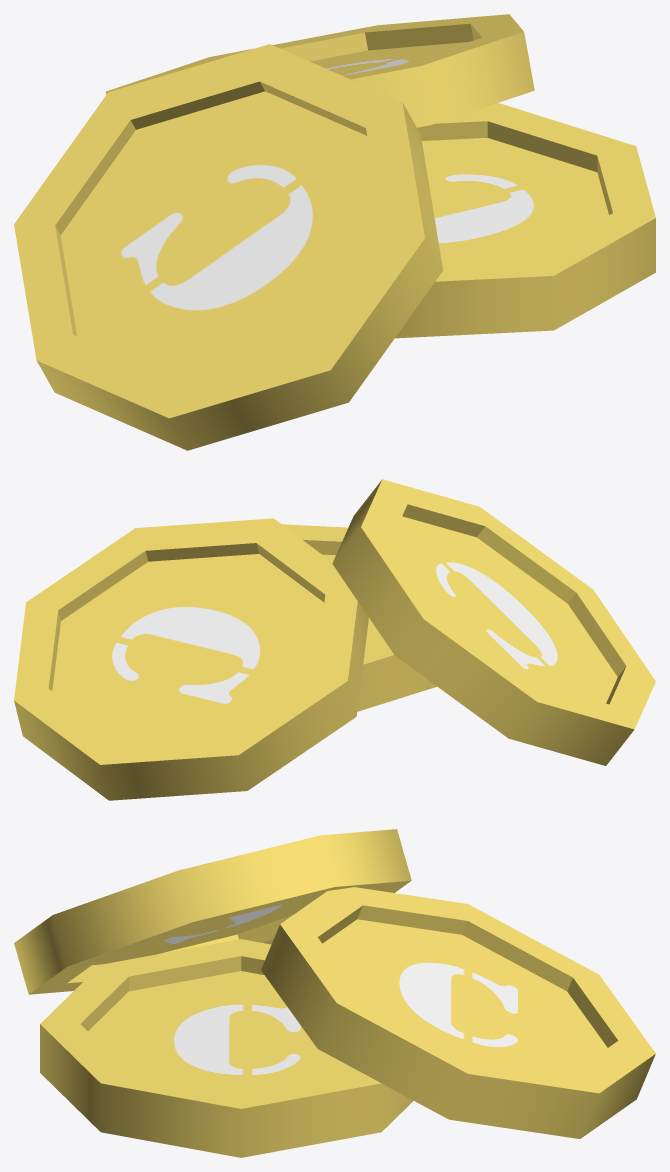
Rendered from Coin Stack.fbx.
3 renders of one model, top to bottom at view 1: azimuth 30°, elevation 25°; view 2: azimuth 150°, elevation 25°; view 3: azimuth 270°, elevation 25°, orthographic. The views are drawn at different scales.
Parts seen in each view (by area): view 1: polySurface58, polySurface57, polySurface59; view 2: polySurface59, polySurface58, polySurface57; view 3: polySurface59, polySurface57, polySurface58.
Part boxes in pixels (bbox=[...]): polySurface58: bbox=[14, 44, 443, 450]; polySurface57: bbox=[395, 103, 655, 338]; polySurface59: bbox=[105, 14, 534, 127]; polySurface59: bbox=[14, 518, 368, 800]; polySurface58: bbox=[332, 479, 655, 765]; polySurface57: bbox=[282, 524, 436, 711]; polySurface59: bbox=[261, 887, 655, 1138]; polySurface57: bbox=[40, 939, 413, 1157]; polySurface58: bbox=[14, 829, 411, 994].
Bounding box in the file's own units: 1.35 × 0.5762 × 1.39.
